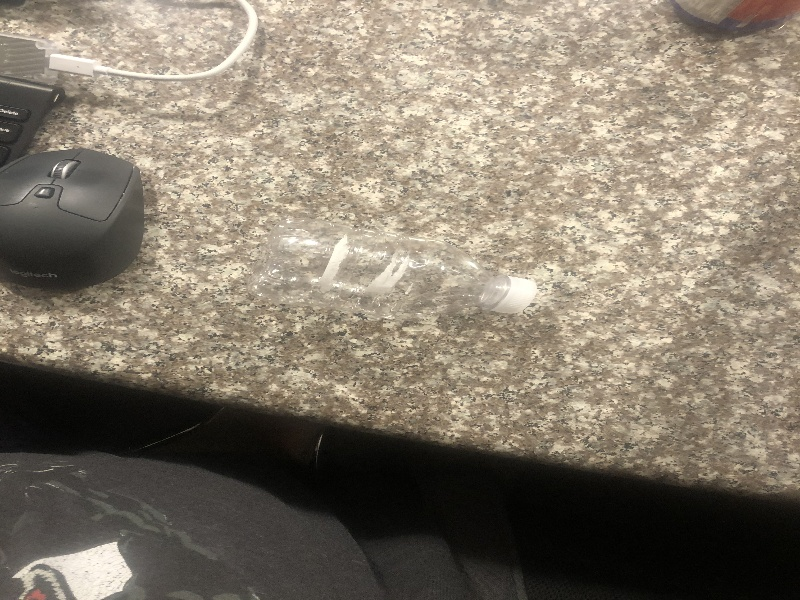plastic: (247, 205, 545, 339)
